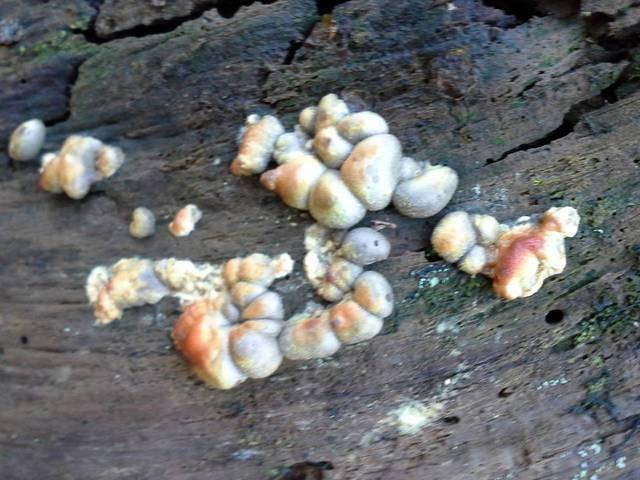Non-edible Mushroom: (10, 90, 581, 389), (229, 92, 459, 229), (169, 251, 294, 390), (430, 203, 580, 300), (37, 132, 124, 200), (340, 132, 402, 211), (430, 209, 500, 277), (392, 158, 458, 218), (229, 112, 284, 177), (6, 117, 46, 162), (167, 202, 202, 237), (128, 205, 156, 238)
